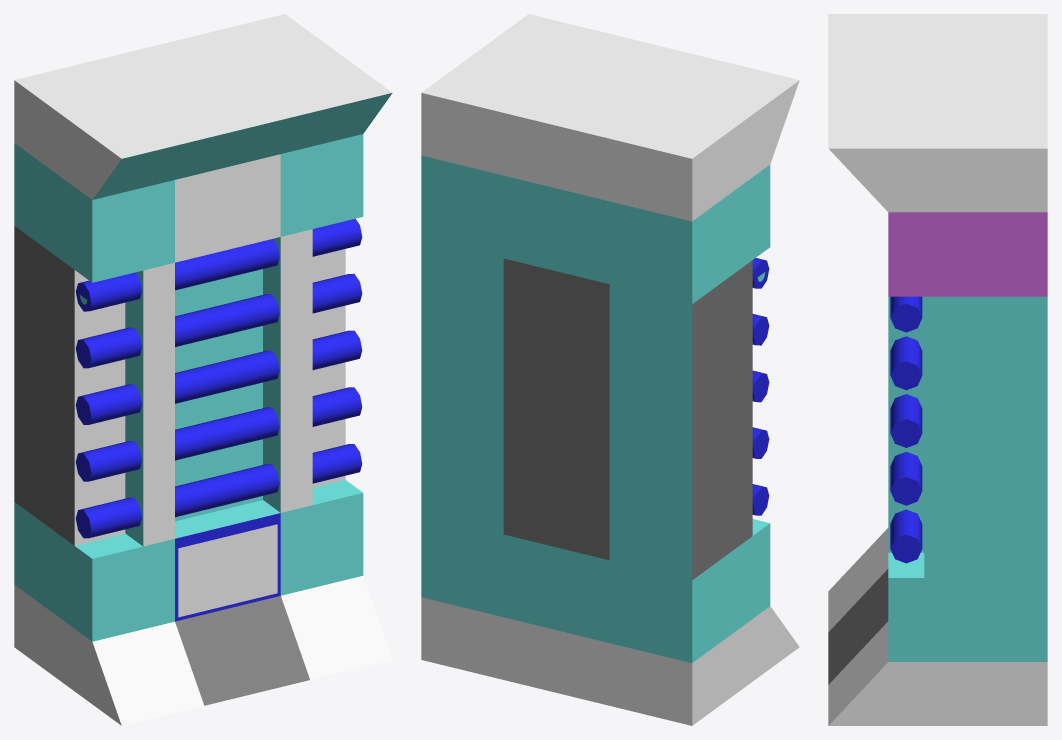
File: WallBase.fbx
3 views of the same model, side by side, from view 1: azimuth 30°, elevation 25°; view 2: azimuth 150°, elevation 25°; view 3: azimuth 270°, elevation 25° (orthographic).
Visible parts, largest first — view 1: Base; view 2: Base; view 3: Base.
Boxes of the visible parts, bbox=[...] form: Base: bbox=[14, 14, 392, 725]; Base: bbox=[421, 14, 799, 725]; Base: bbox=[828, 14, 1047, 725].
Bounding box in the file's own units: 78.74 × 157 × 54.17.
